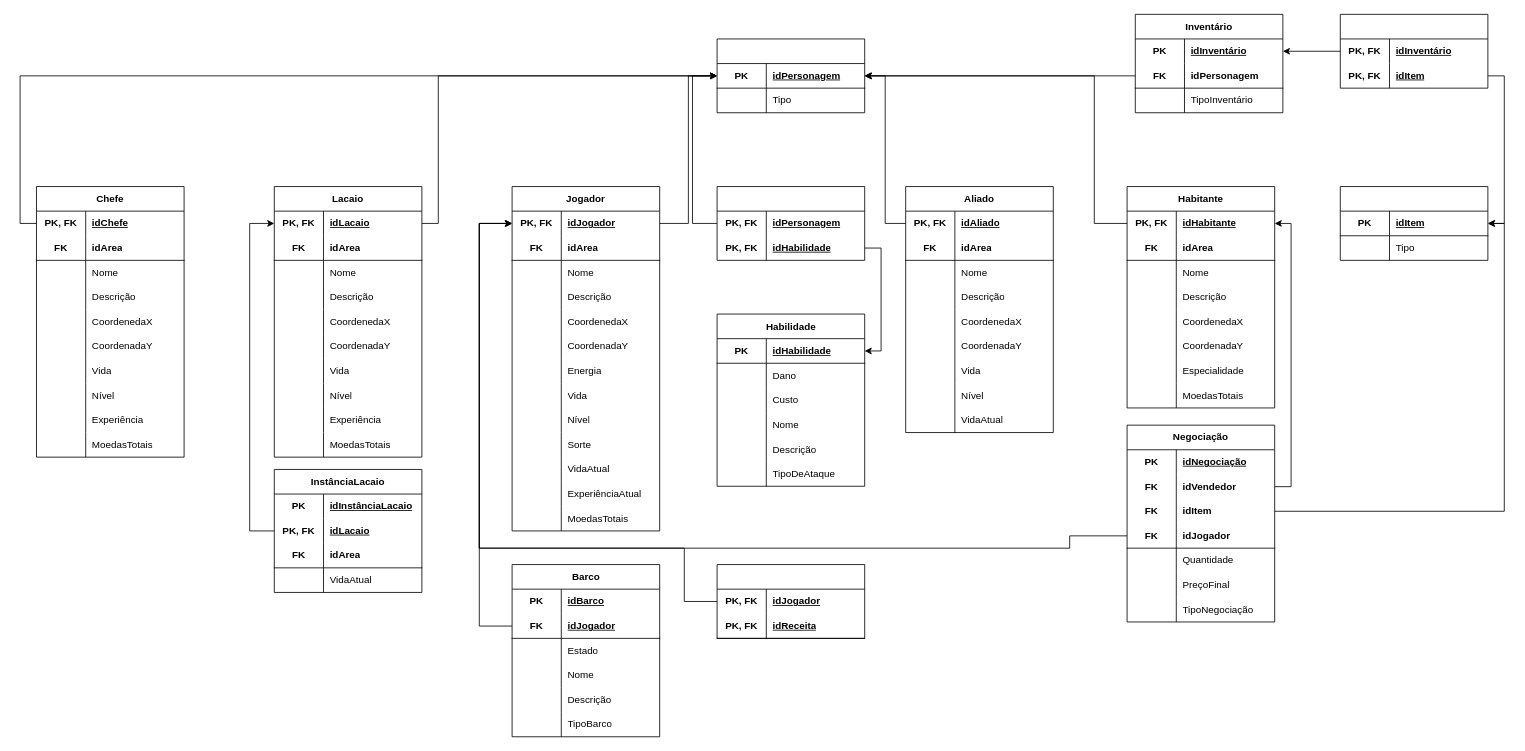
Image size: 1525x751. Some labels were removed from this diagram. The box of each missing label's shape, as (x1, y1, x2, y2) in pixels:
HabildadePersonagem: (716, 186, 865, 260)
ItemInventário: (1339, 14, 1488, 88)
ReceitasConhecidas: (716, 564, 865, 638)
TipoItem: (1339, 186, 1488, 260)
TipoPersonagem: (716, 38, 865, 113)
